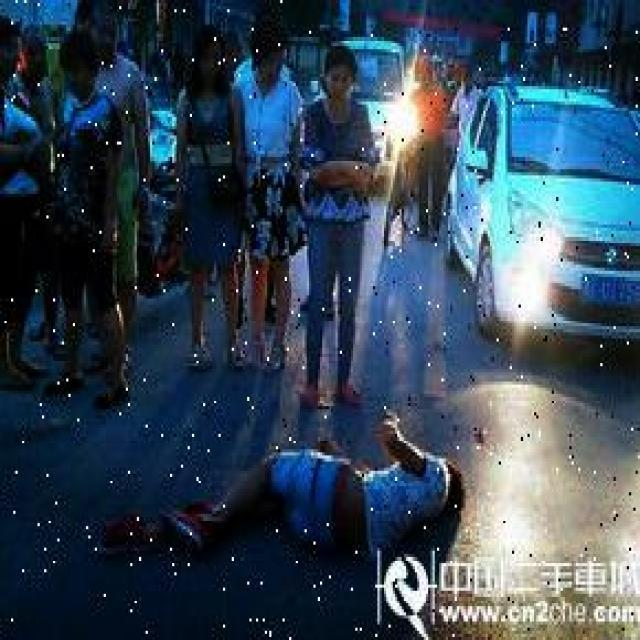fall: (157, 428, 468, 550)
